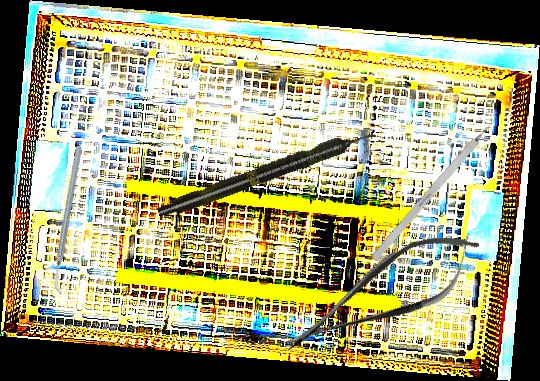Chopper: (3, 144, 135, 297)
Handpiece: (155, 124, 379, 223)
Hook Surgical: (370, 108, 505, 263)
Micro Scissor: (268, 213, 495, 374)
